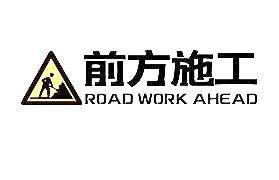sign: (19, 48, 262, 108)
